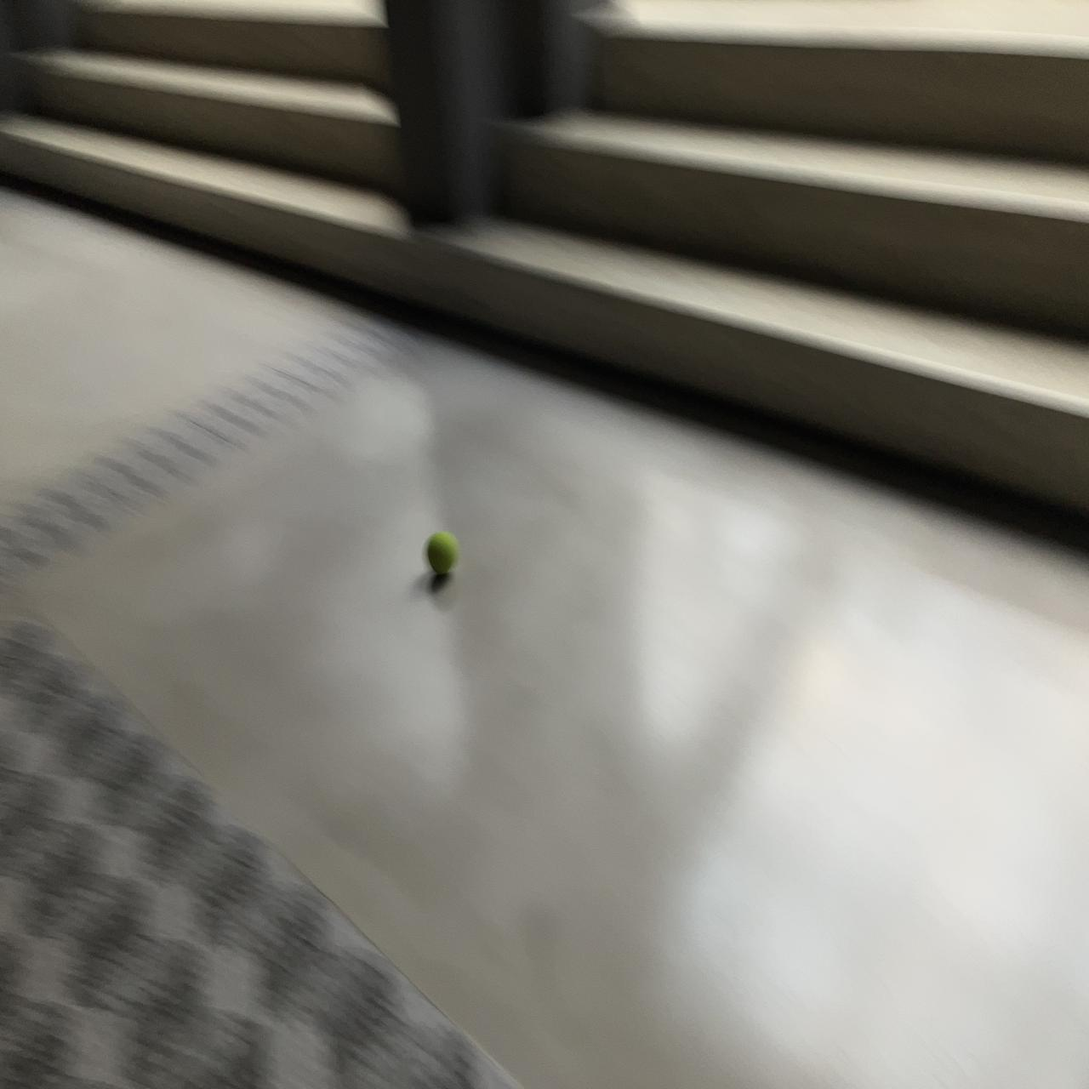tennisball: (426, 532, 459, 574)
